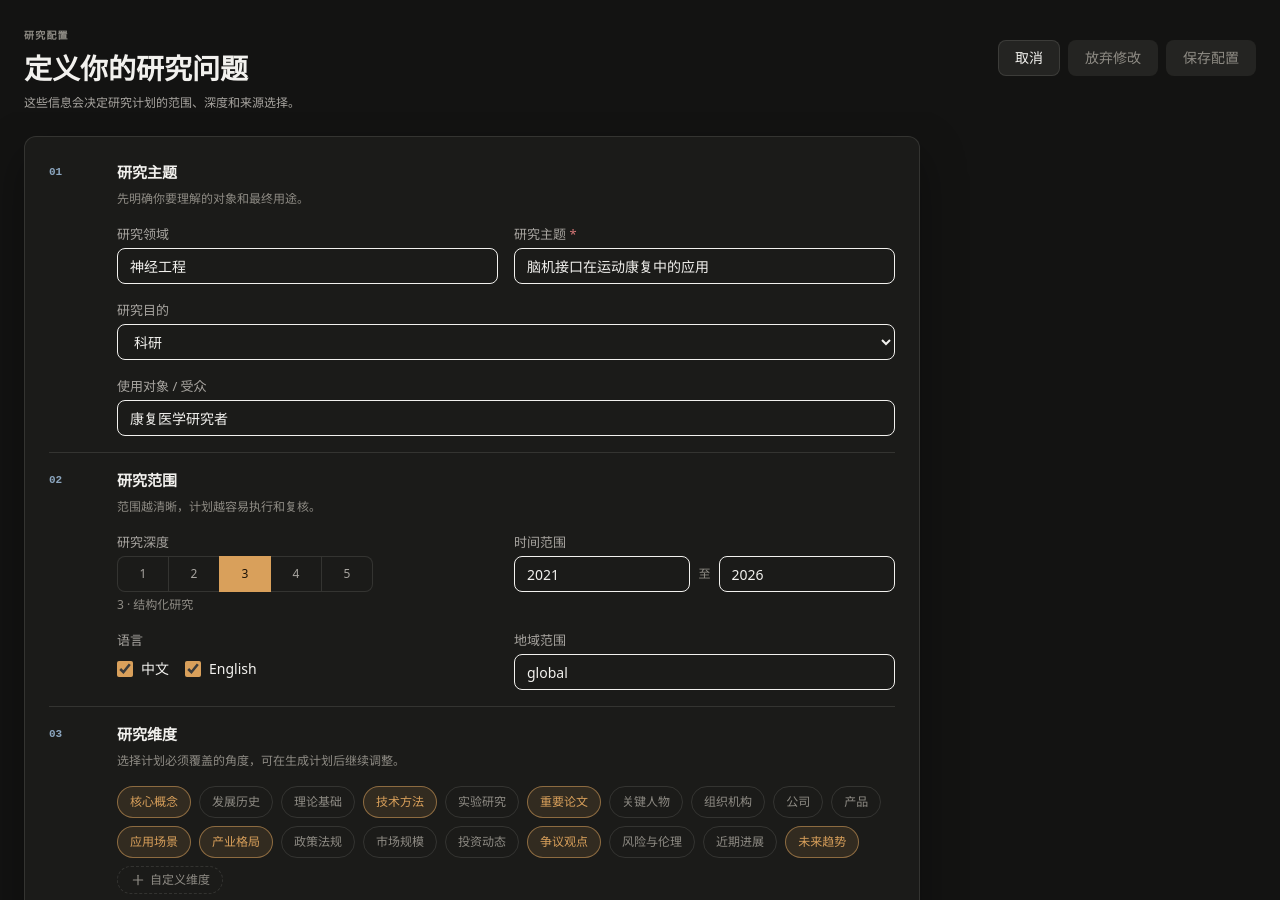
ConfigPage (prototype numbered sections) › 放弃修改 discards the draft and restores the last-saved server values
The width and height of the screenshot is (1280, 900).
Expected: the button "放弃修改" is disabled, 1068,40 -> 1158,76
Step 1. Type "（草稿）" into the field labelled "研究主题 *" → x=704, y=266, box 514,248 -> 895,284
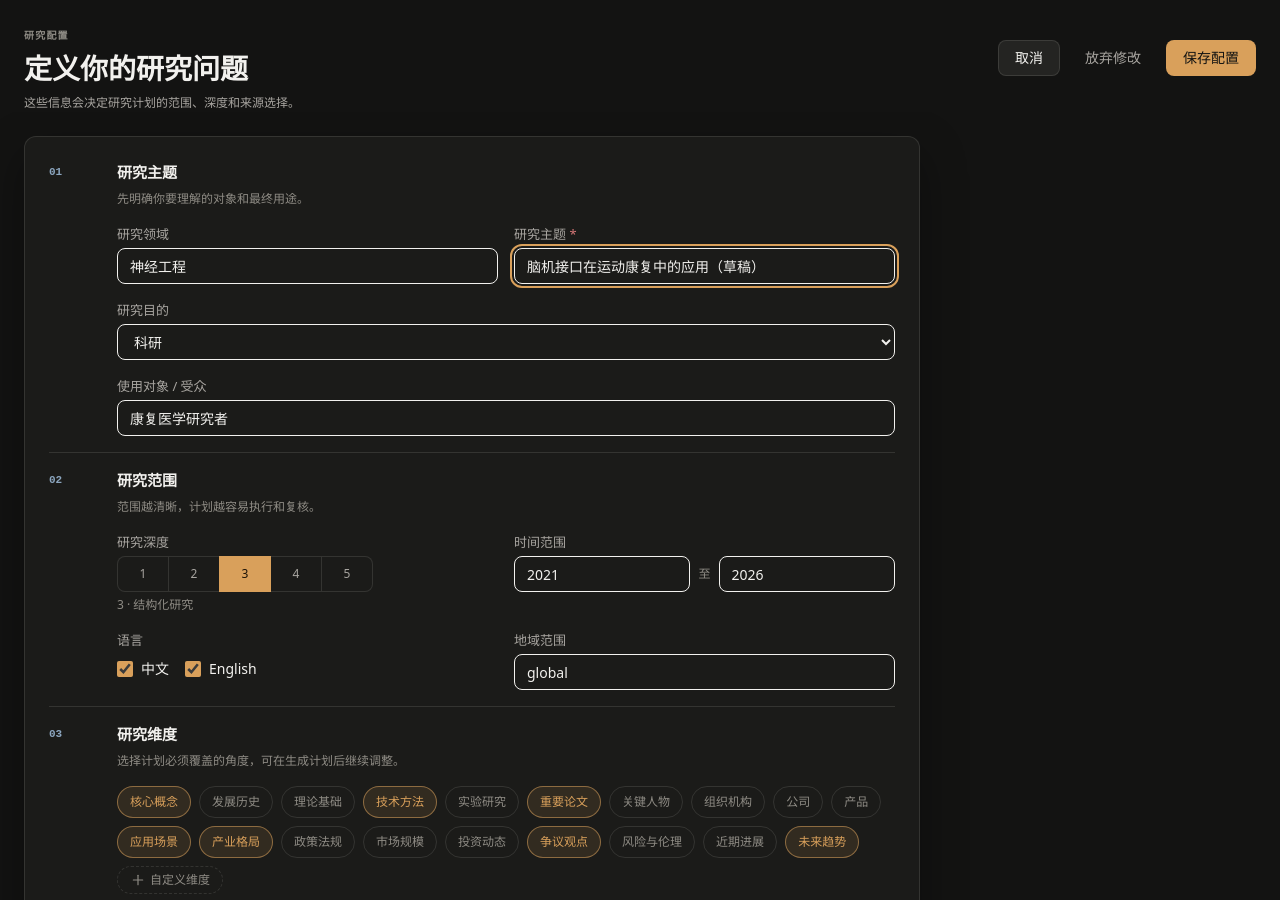
Now the field labelled "研究主题 *" holds "脑机接口在运动康复中的应用（草稿）", box 514,248 -> 895,284
Now the button "保存配置" is enabled, box 1166,40 -> 1256,76
Step 2. Click the button "放弃修改" → x=1113, y=58, box 1068,40 -> 1158,76
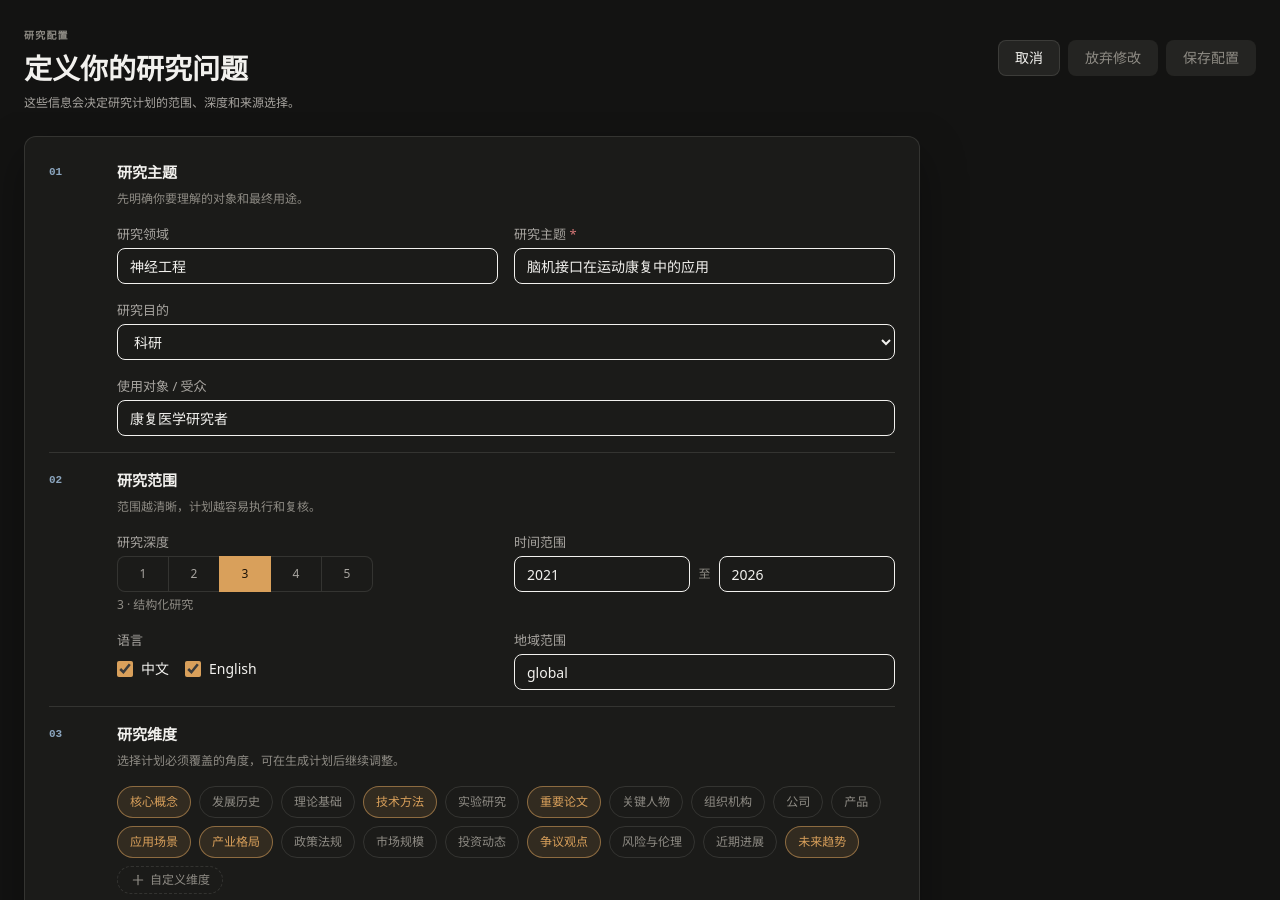
Now the field labelled "研究主题 *" holds "脑机接口在运动康复中的应用", box 514,248 -> 895,284
Now the button "保存配置" is disabled, box 1166,40 -> 1256,76
